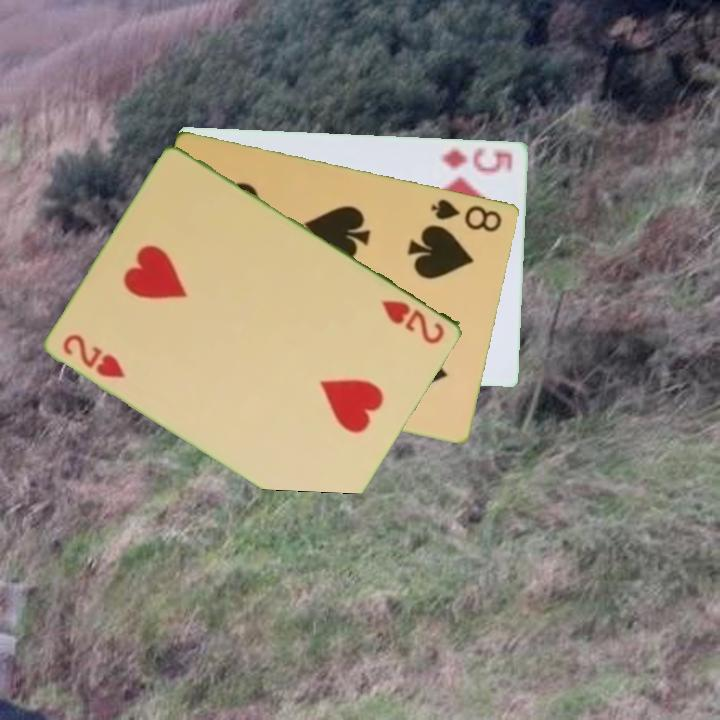2h: (378, 296, 448, 347), (59, 330, 129, 381)
5d: (439, 143, 516, 176)
8s: (428, 195, 505, 235)
